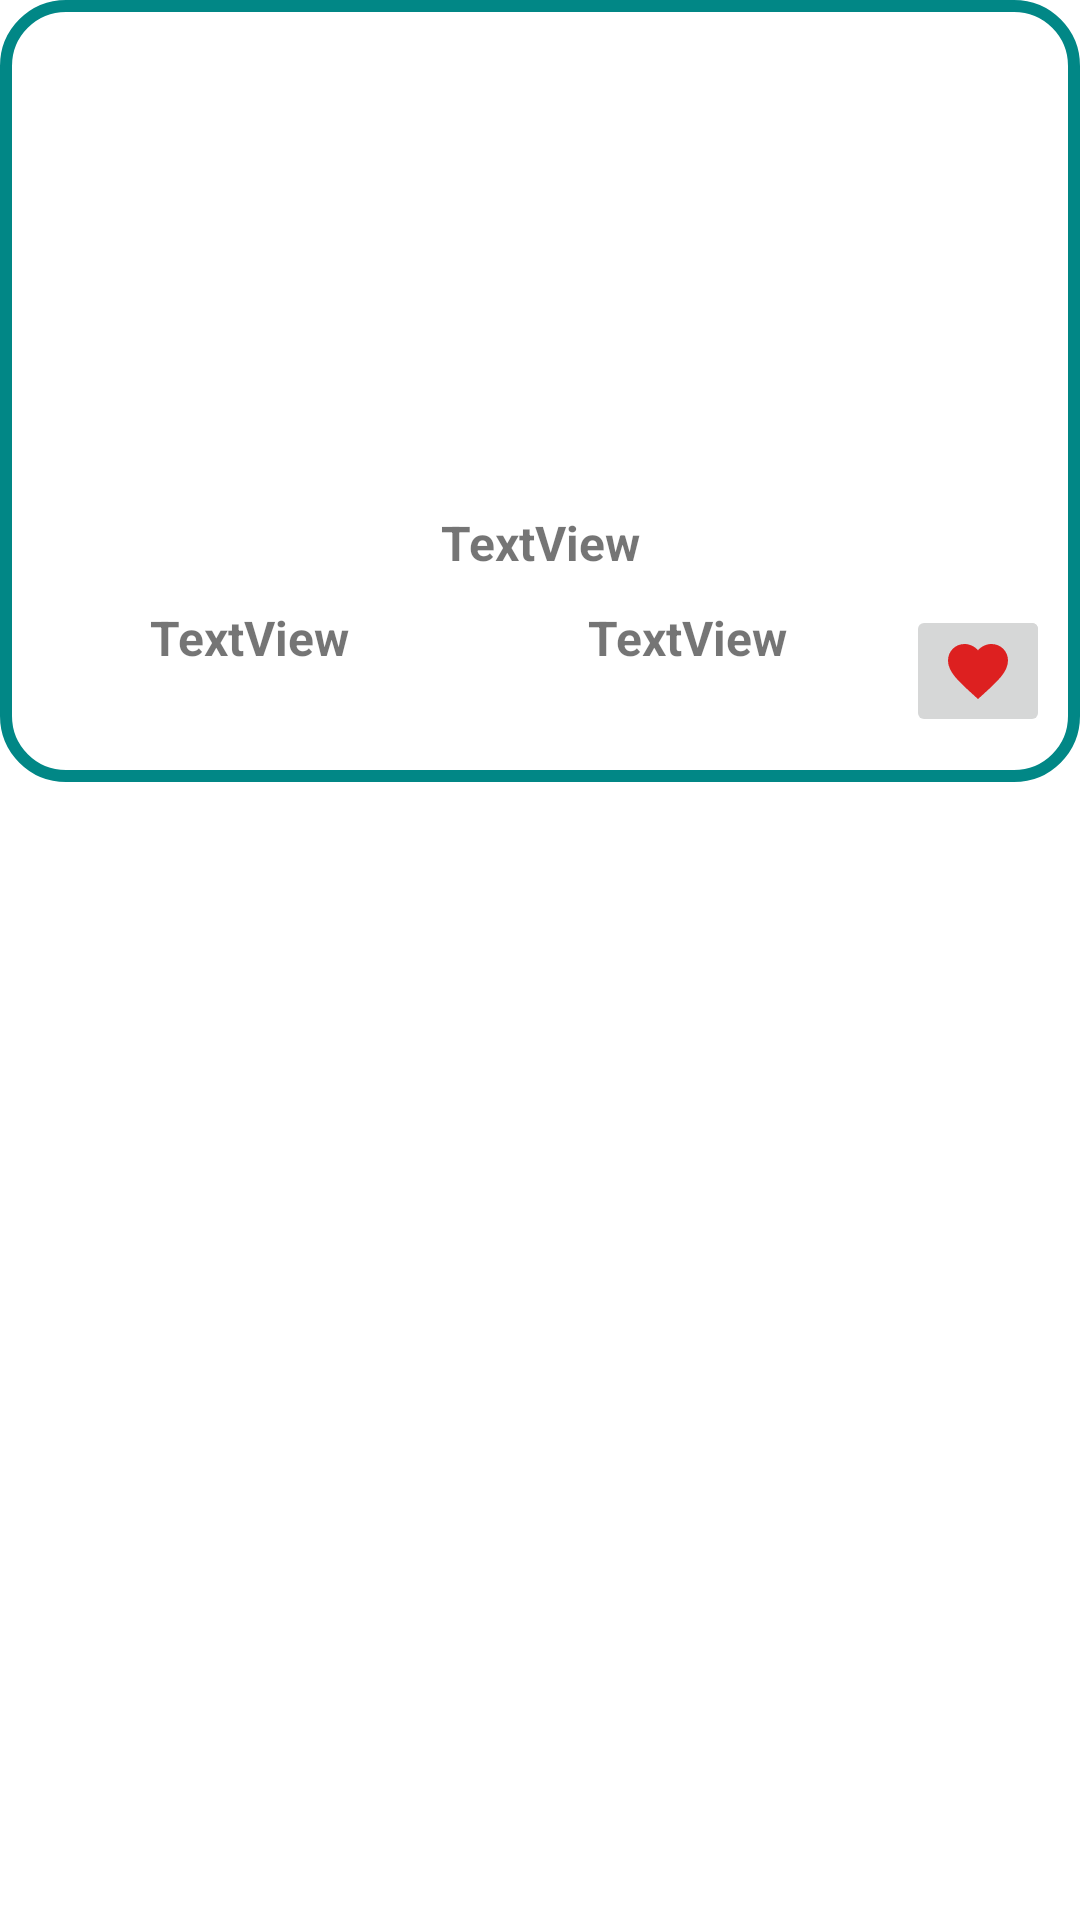

Where icons sit on this 1080 × 1920 app screen, as (x1, y1, x2, y2):
favorite: (918, 623, 1038, 719)
